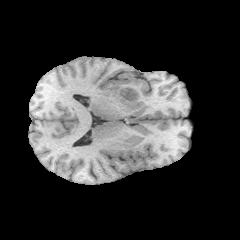glioma: (109, 77, 146, 104)
